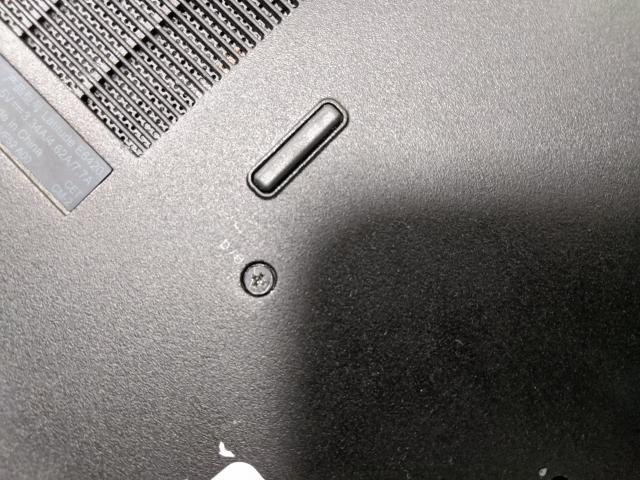CRS: (239, 261, 278, 298)
